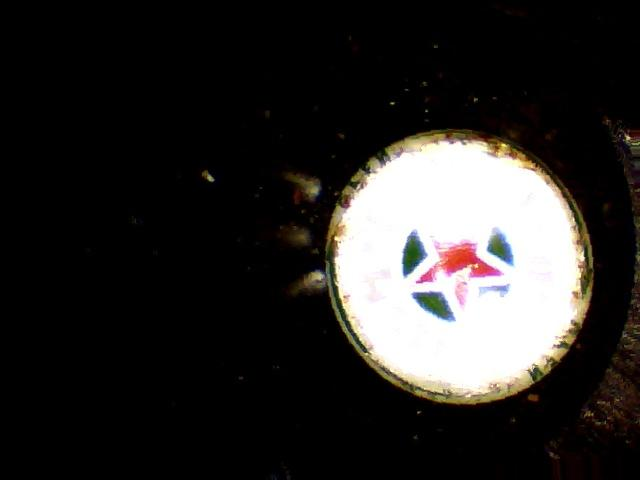capsule: (303, 103, 614, 420)
